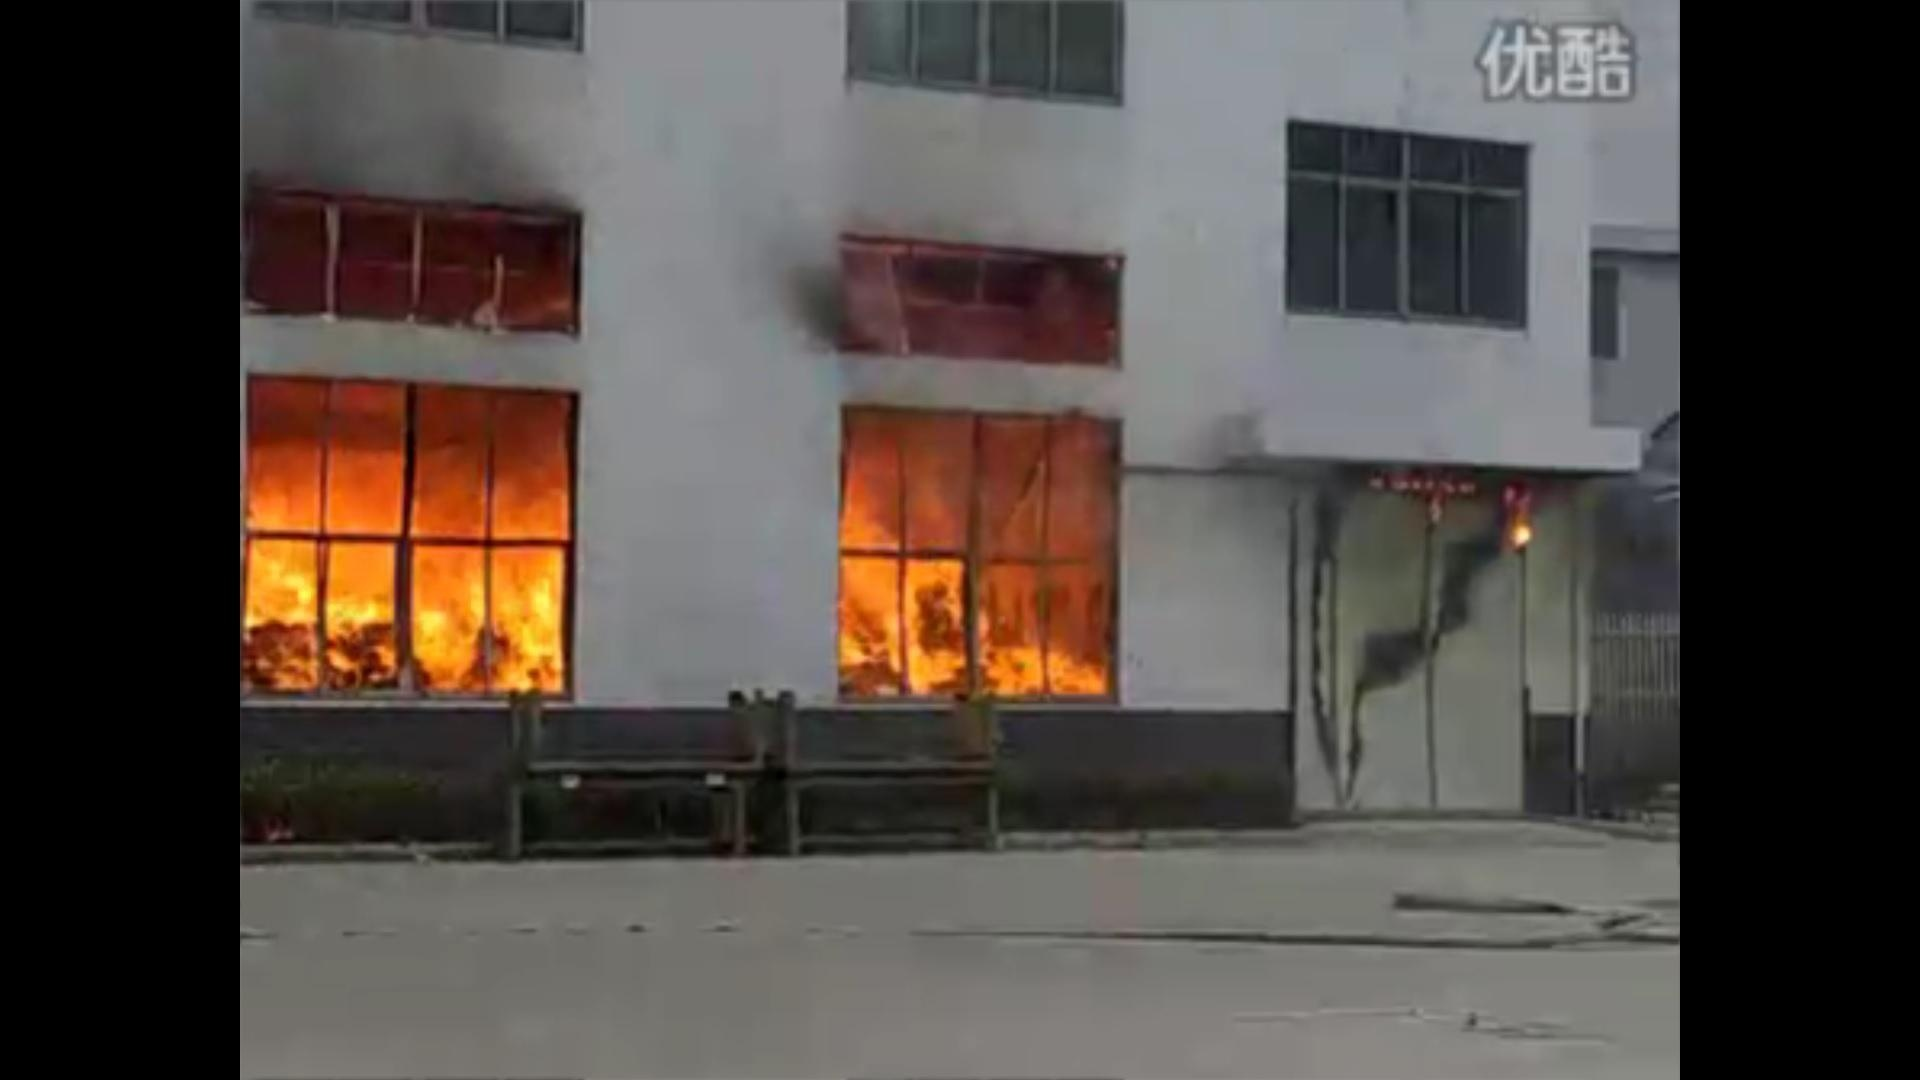fire: (233, 385, 578, 699), (829, 427, 1116, 707)
